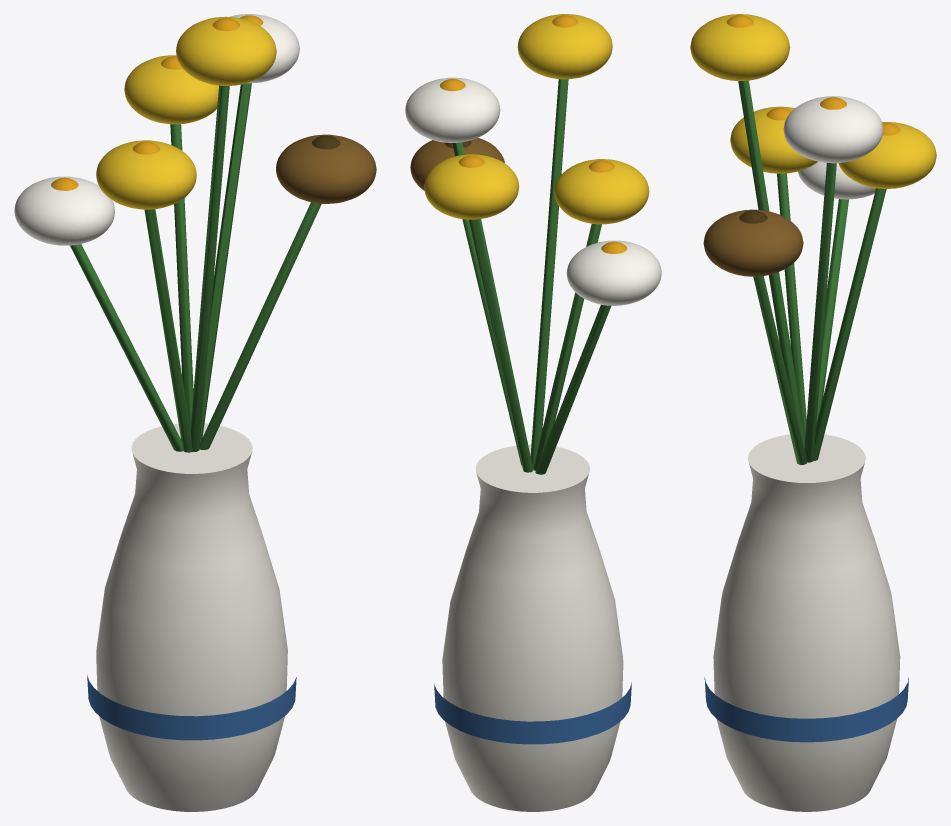
The model's file is BinhHoaTho.glb.
3 views of the same model, side by side, from view 1: azimuth 30°, elevation 25°; view 2: azimuth 150°, elevation 25°; view 3: azimuth 270°, elevation 25° (orthographic). The views are drawn at different scales.
Parts seen in each view (by area): view 1: BinhHoaTho; view 2: BinhHoaTho; view 3: BinhHoaTho.
Part boxes in pixels (box(x1,y1,x2,y2)): BinhHoaTho: box(14, 14, 376, 811); BinhHoaTho: box(405, 14, 661, 811); BinhHoaTho: box(690, 14, 936, 811).
Size of the model in its own units: 0.2533 by 0.6355 by 0.1851.
